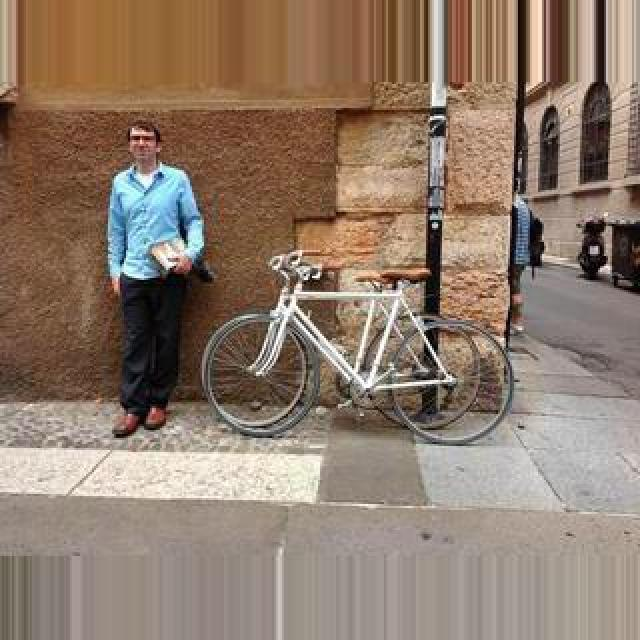MC-Bike: (104, 118, 210, 436), (506, 186, 536, 340)
Person: (202, 250, 514, 444)
